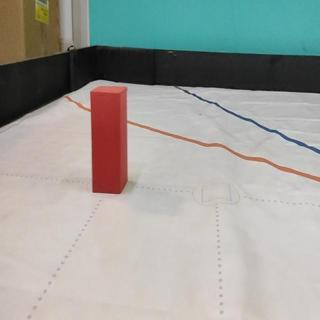redbox: (89, 83, 128, 195)
